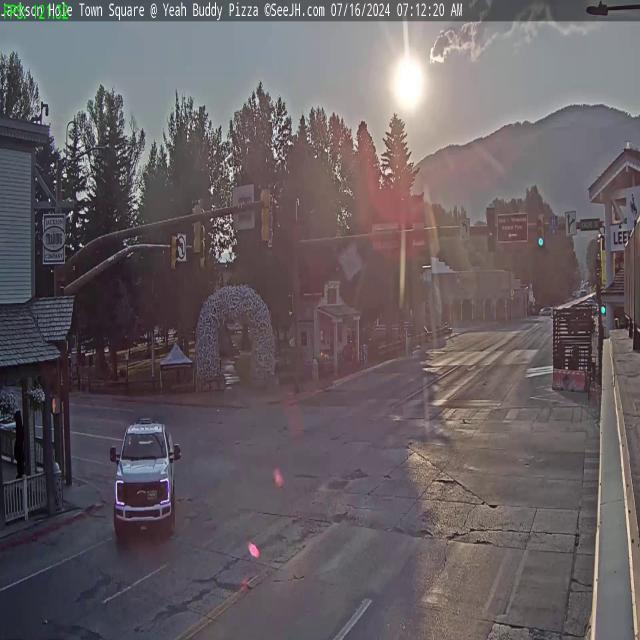pickup: (110, 418, 178, 534)
traffic light: (260, 184, 274, 246), (190, 198, 203, 254), (170, 231, 182, 274), (486, 207, 496, 252), (536, 214, 545, 248)
